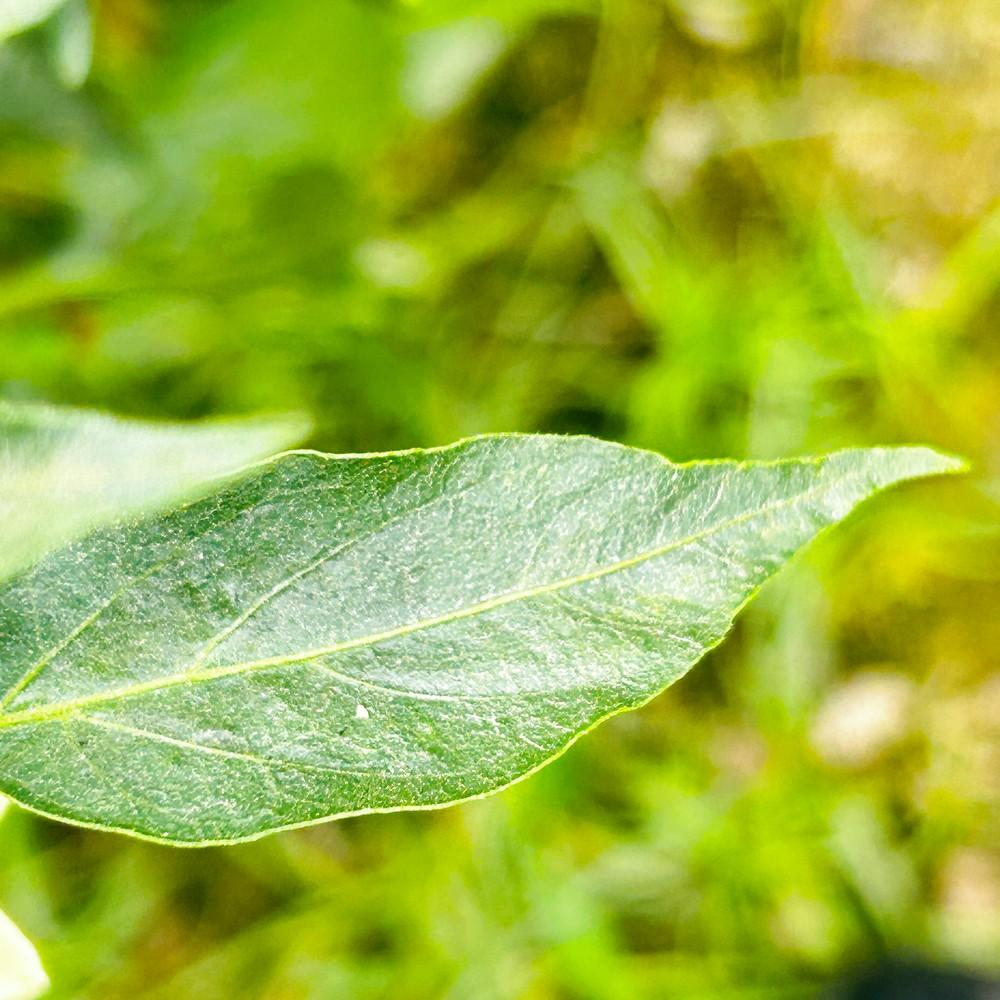Daun Cabai Sehat: (0, 427, 974, 849)
